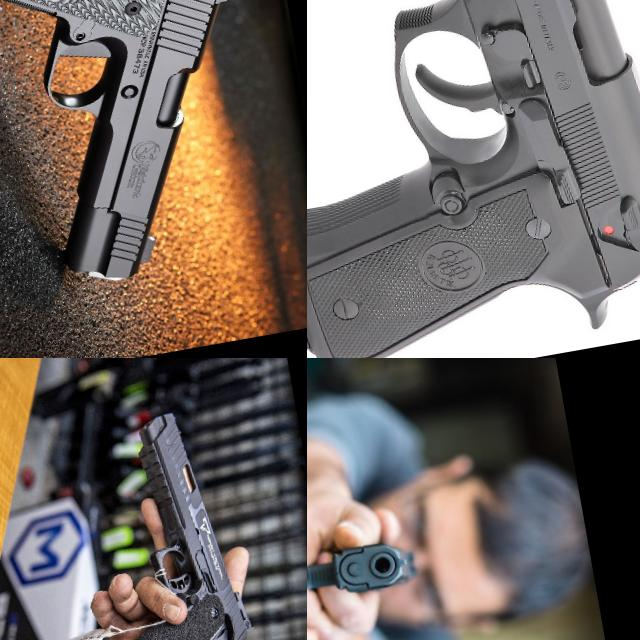handgun: (307, 0, 640, 358), (0, 0, 305, 317), (48, 401, 267, 640), (307, 533, 421, 606)
